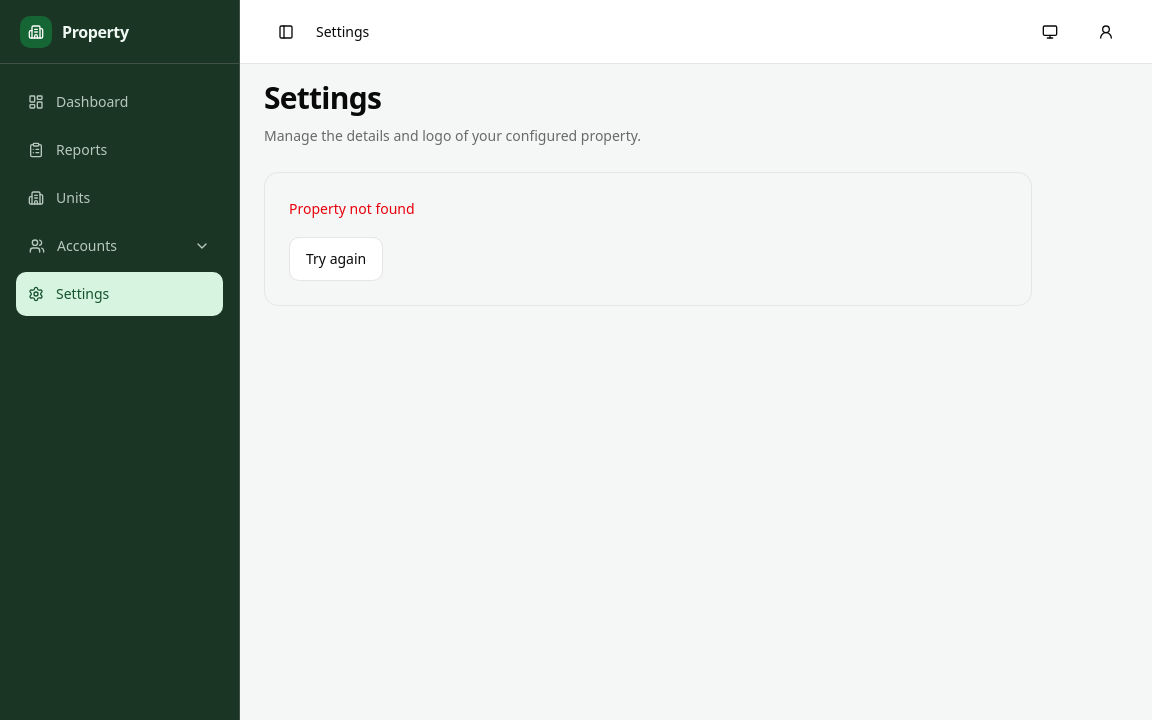
Test: shows load failure 404 and supports explicit retry
Expected: the message reads "Property not found", [289,199,415,218]
What coordinates should you click on to do the following:
click the button "Try again"
I would click on:
 (336, 259)
Its box is [289,237,383,281].
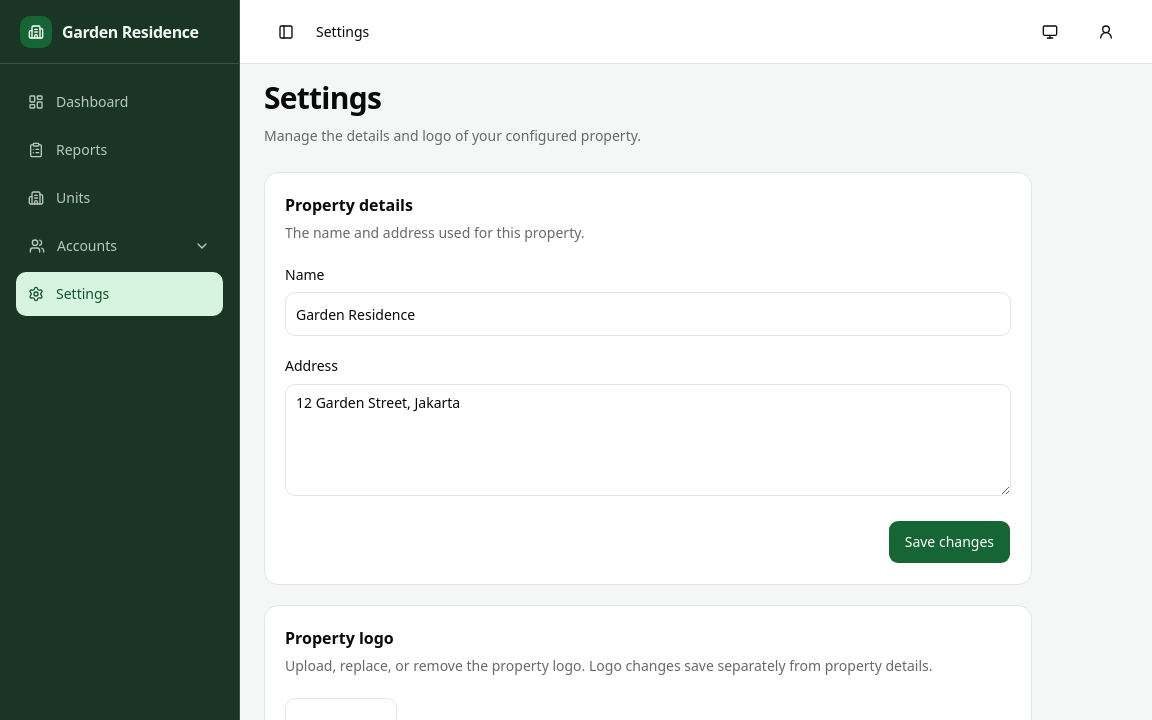
Result: the field labelled "Name" holds "Garden Residence" at [285,292,1011,336]
